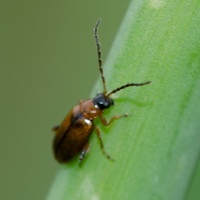insect: (53, 19, 150, 162)
